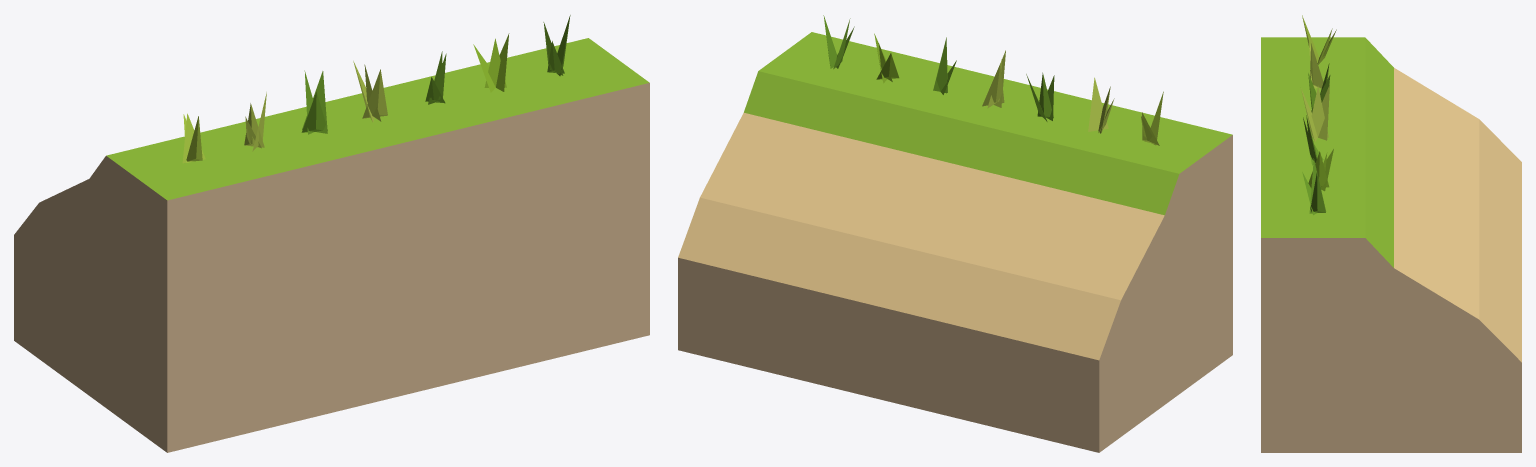
File: margem-reta.glb
3 views of the same model, side by side, from view 1: azimuth 30°, elevation 25°; view 2: azimuth 150°, elevation 25°; view 3: azimuth 270°, elevation 25° (orthographic). The views are drawn at different scales.
Parts seen in each view (by area): view 1: margem-reta; view 2: margem-reta; view 3: margem-reta.
Boxes of the visible parts, x1,y1,x2,y2 form: margem-reta: [14, 15, 649, 452]; margem-reta: [678, 15, 1232, 452]; margem-reta: [1261, 15, 1521, 452].
Size of the model in its own units: 1 by 0.614 by 0.55.
